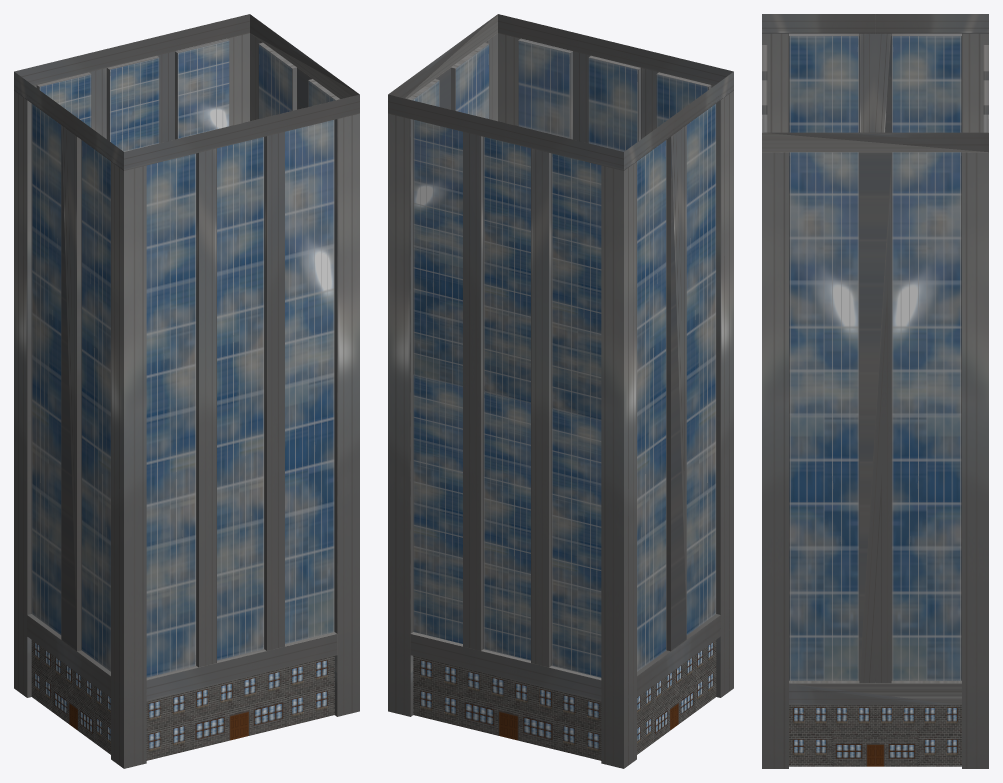
The model's file is Building - 2.FBX.
The picture shows the model from 3 angles, left to right: view 1: azimuth 30°, elevation 25°; view 2: azimuth 150°, elevation 25°; view 3: azimuth 270°, elevation 25°; orthographic projection. The views are drawn at different scales.
Parts seen in each view (by area): view 1: Box01; view 2: Box01; view 3: Box01.
Part boxes in pixels (left/top/right/bottom): Box01: left=14, top=14, right=359, bottom=768; Box01: left=388, top=14, right=733, bottom=768; Box01: left=762, top=14, right=988, bottom=768.
Bounding box in the file's own units: 26 × 21 × 65.
